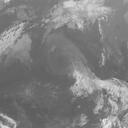cyclone: (73, 63, 112, 96)
